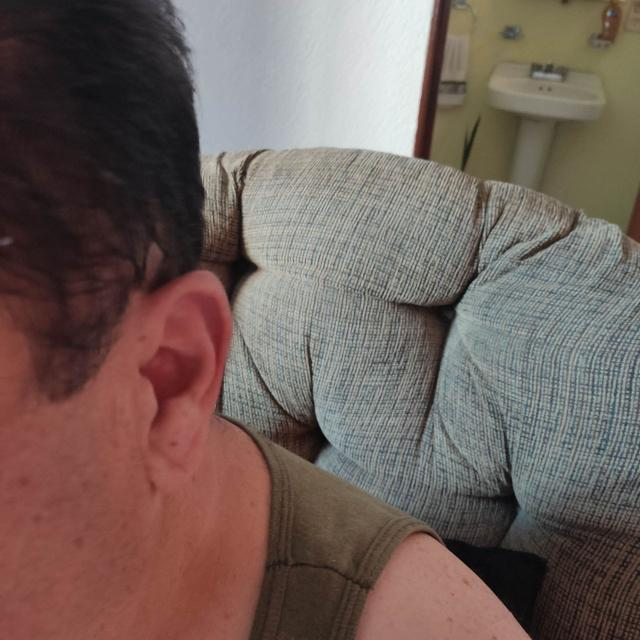ear: (131, 271, 230, 493)
